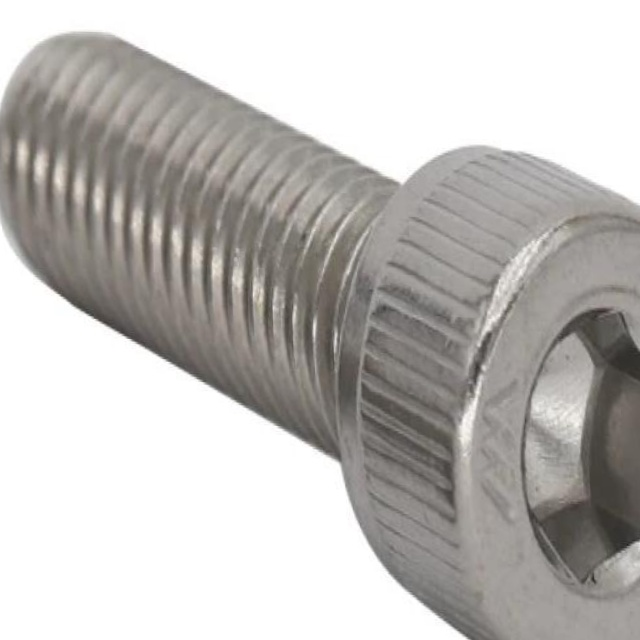allen: (448, 203, 640, 640)
